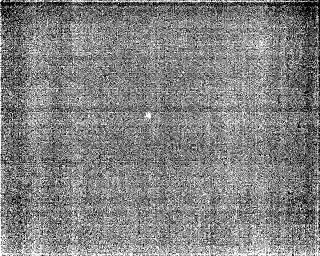BIRD: (143, 110, 153, 122)
